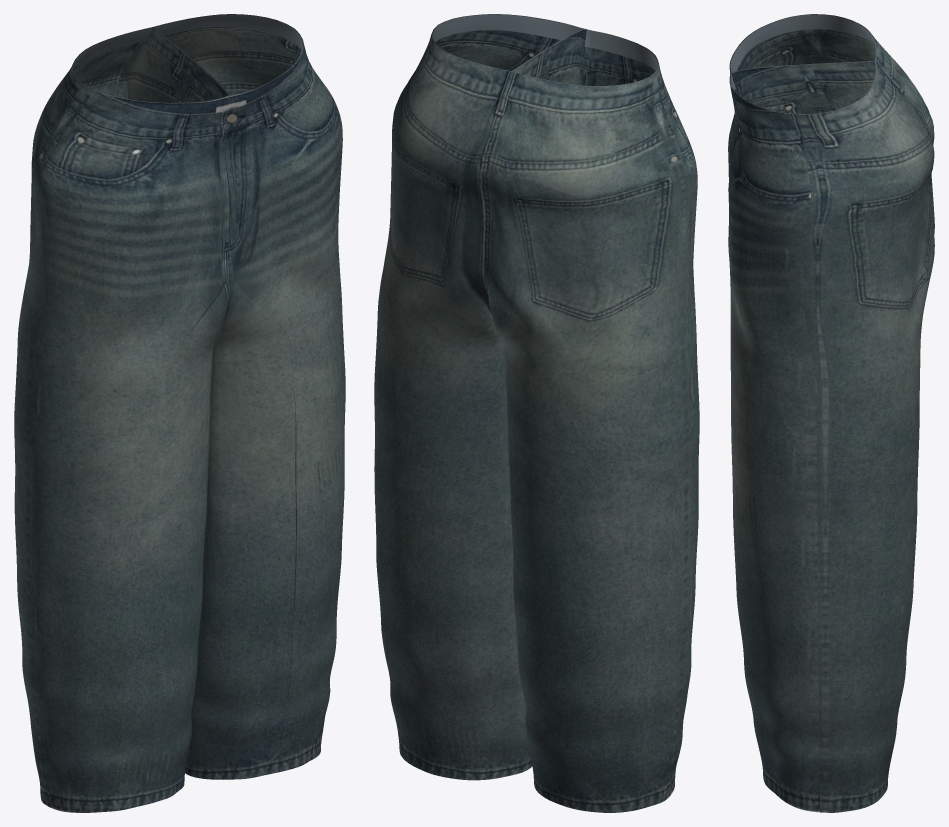
The model's file is washed-denim-medium-blue.glb.
The picture shows the model from 3 angles, left to right: view 1: azimuth 30°, elevation 25°; view 2: azimuth 150°, elevation 25°; view 3: azimuth 270°, elevation 25°; orthographic projection. The views are drawn at different scales.
Visible parts, largest first — view 1: washed-denim-medium-blue; view 2: washed-denim-medium-blue; view 3: washed-denim-medium-blue.
Part boxes in pixels (left/top/right/bottom): washed-denim-medium-blue: left=14, top=14, right=345, bottom=812; washed-denim-medium-blue: left=374, top=14, right=699, bottom=812; washed-denim-medium-blue: left=728, top=14, right=934, bottom=812.
Size of the model in its own units: 0.4478 by 1.02 by 0.2771.
Materials: 3 (2 with a texture image).
